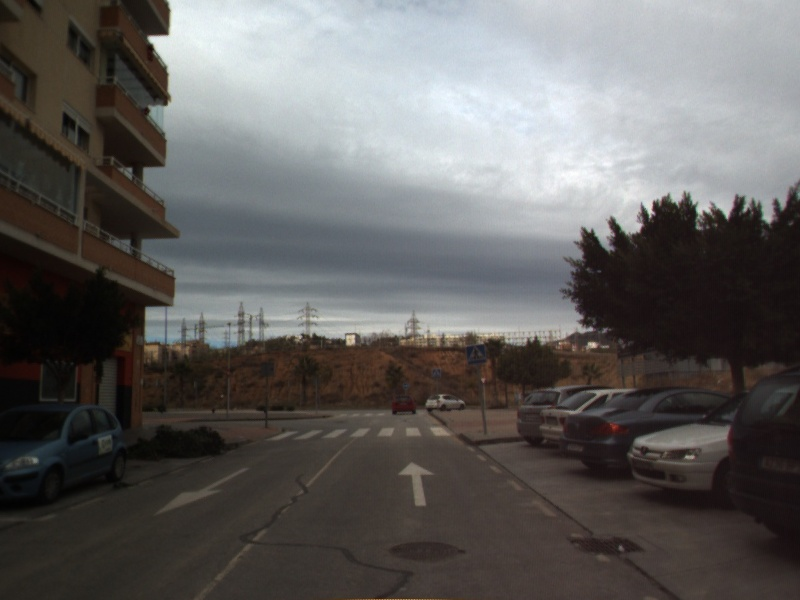STRAIGHT: (396, 460, 437, 508)
